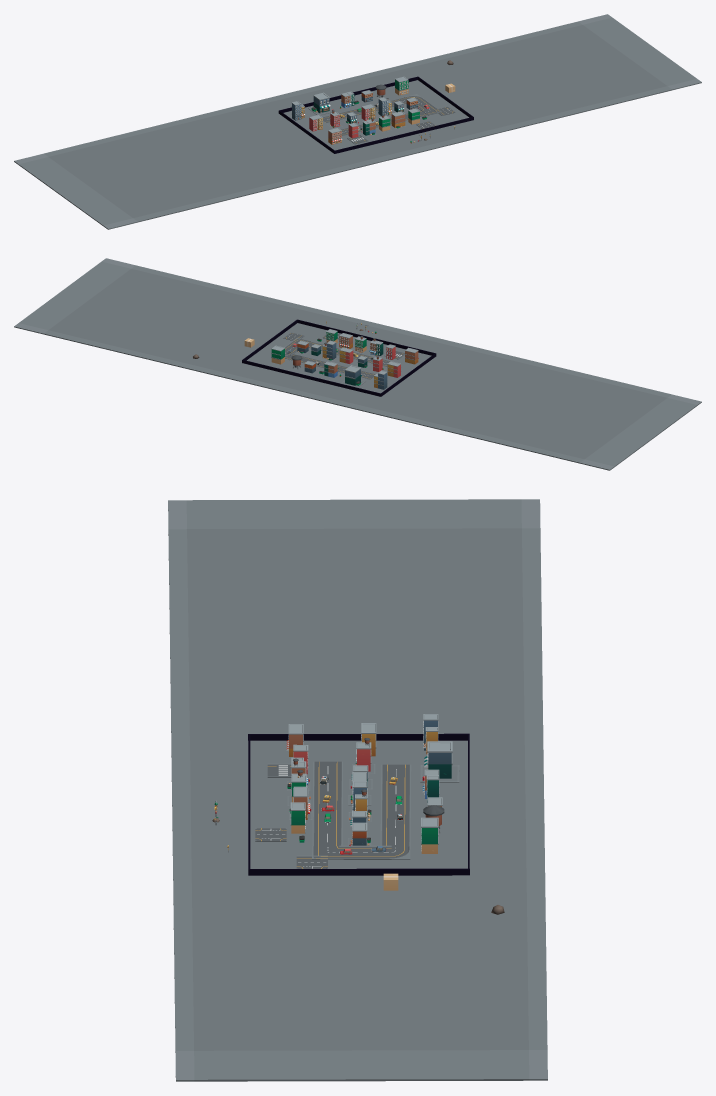
File: world3.gltf
3 views of the same model, one above another, from view 1: azimuth 30°, elevation 25°; view 2: azimuth 150°, elevation 25°; view 3: azimuth 270°, elevation 25° (orthographic). The views are drawn at different scales.
Visible parts, largest first — view 1: build_ground.022, building_world_wall3; view 2: build_ground.022, building_world_wall, building_world_wall3, road_straight; view 3: build_ground.022, road_straight.001, road_straight, building_world_wall2, building_world_wall4, building_A.002.
Boxes of the visible parts, left/top/right/bottom form: build_ground.022: left=14, top=14, right=701, bottom=229; building_world_wall3: left=334, top=117, right=472, bottom=153; build_ground.022: left=14, top=258, right=701, bottom=470; building_world_wall: left=242, top=360, right=380, bottom=396; building_world_wall3: left=297, top=319, right=436, bottom=356; road_straight: left=286, top=354, right=375, bottom=379; build_ground.022: left=168, top=499, right=547, bottom=1081; road_straight.001: left=312, top=761, right=342, bottom=846; road_straight: left=380, top=764, right=411, bottom=848; building_world_wall2: left=248, top=868, right=469, bottom=875; building_world_wall4: left=248, top=733, right=469, bottom=740; building_A.002: left=424, top=741, right=452, bottom=778.
Bounding box in the file's own units: 1413 × 44.07 × 391.
48 materials, 47 textured.
